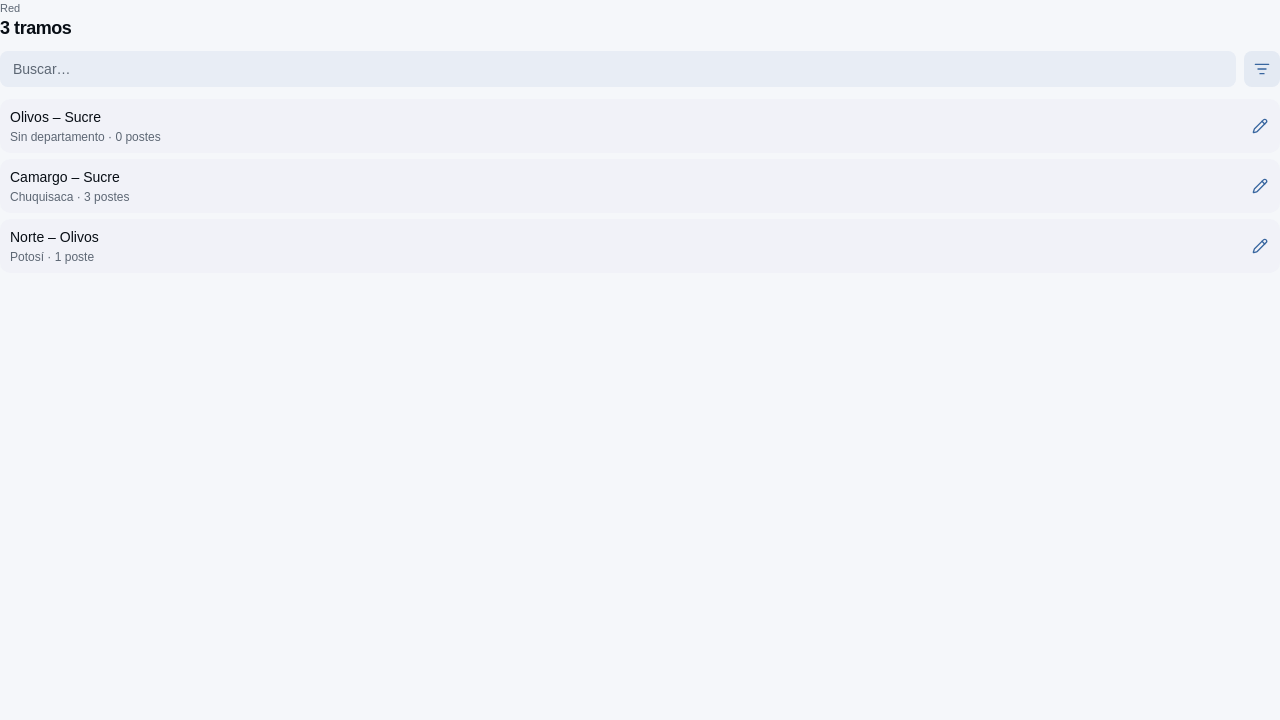
Test: the list › narrows the tramos to one department, or to those with none, from the filter button
This screenshot has width=1280, height=720.
What coordinates should you click on to do the following:
click the button named "Filtros"
I would click on:
 (1262, 69)
Its box is [1244,51,1279,87].
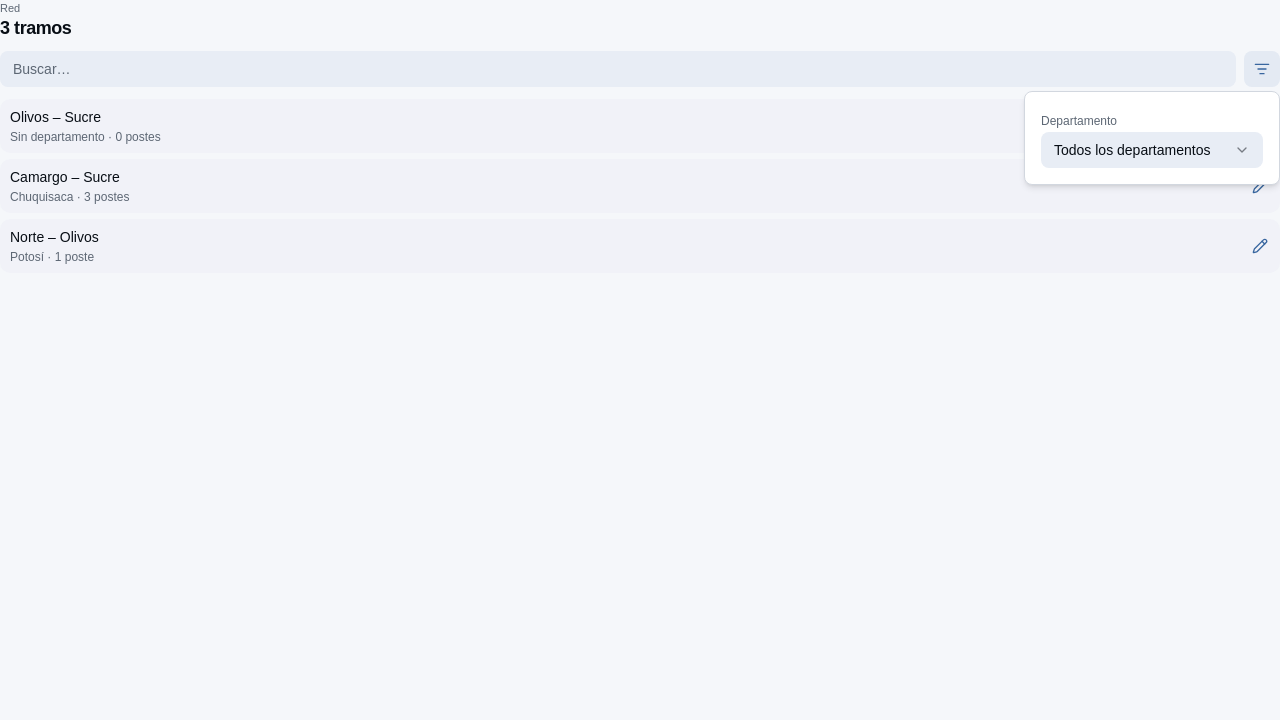
What coordinates should you click on to do the following:
click the dropdown named "Filtrar por departamento"
I would click on:
 (1152, 150)
Its box is [1041,132,1263,168].
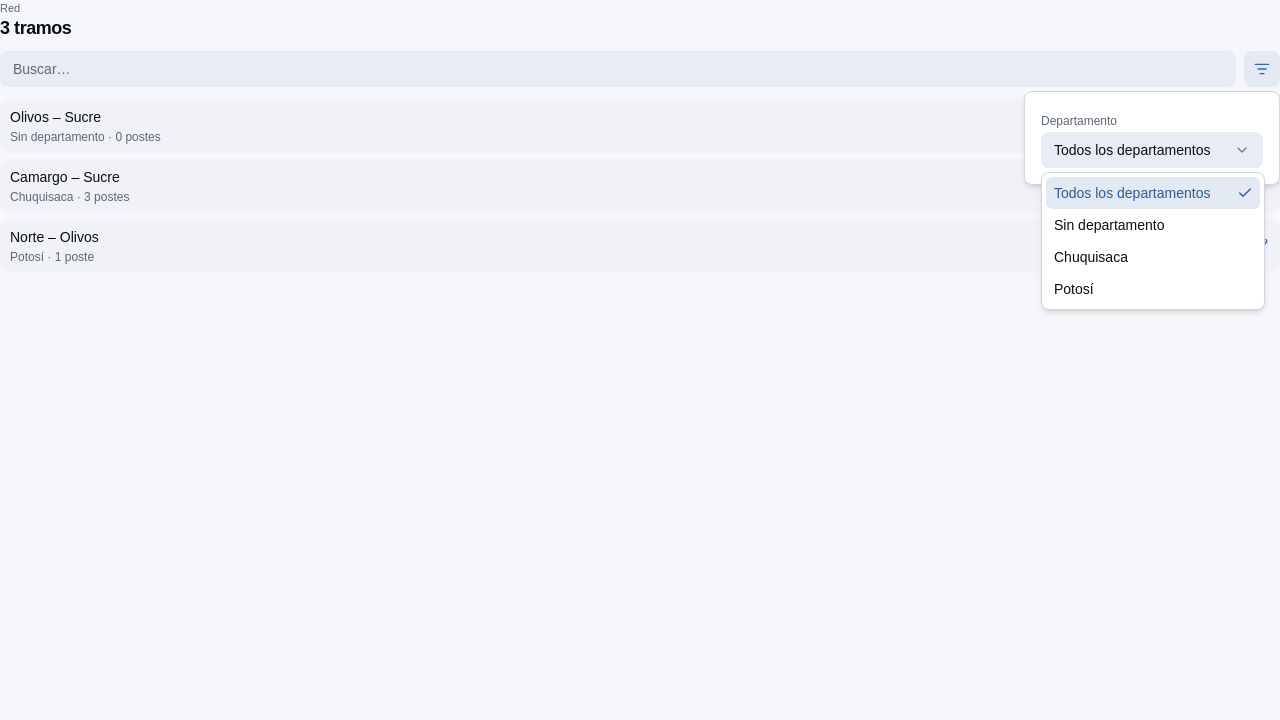
What coordinates should you click on to do the following:
click the option "Chuquisaca"
I would click on:
 (1091, 257)
Its box is [1054,249,1128,265].
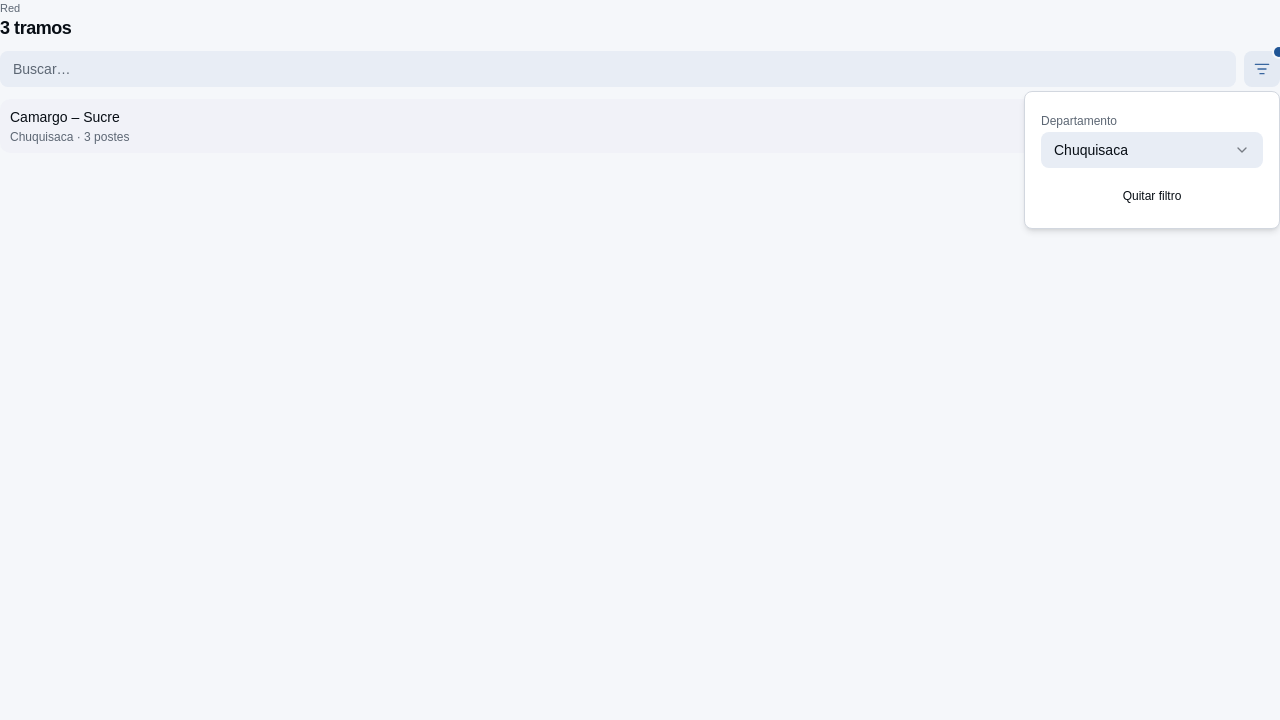
Expected: the button "Camargo – Sucre Chuquisaca · 3 postes" is shown, [0,99,1240,153]
Result: the button "Olivos – Sucre" is gone
Result: the button "Norte – Olivos" is gone
What coordinates should you click on to do the following:
click the dropdown named "Filtrar por departamento"
I would click on:
 (1152, 150)
Its box is [1041,132,1263,168].
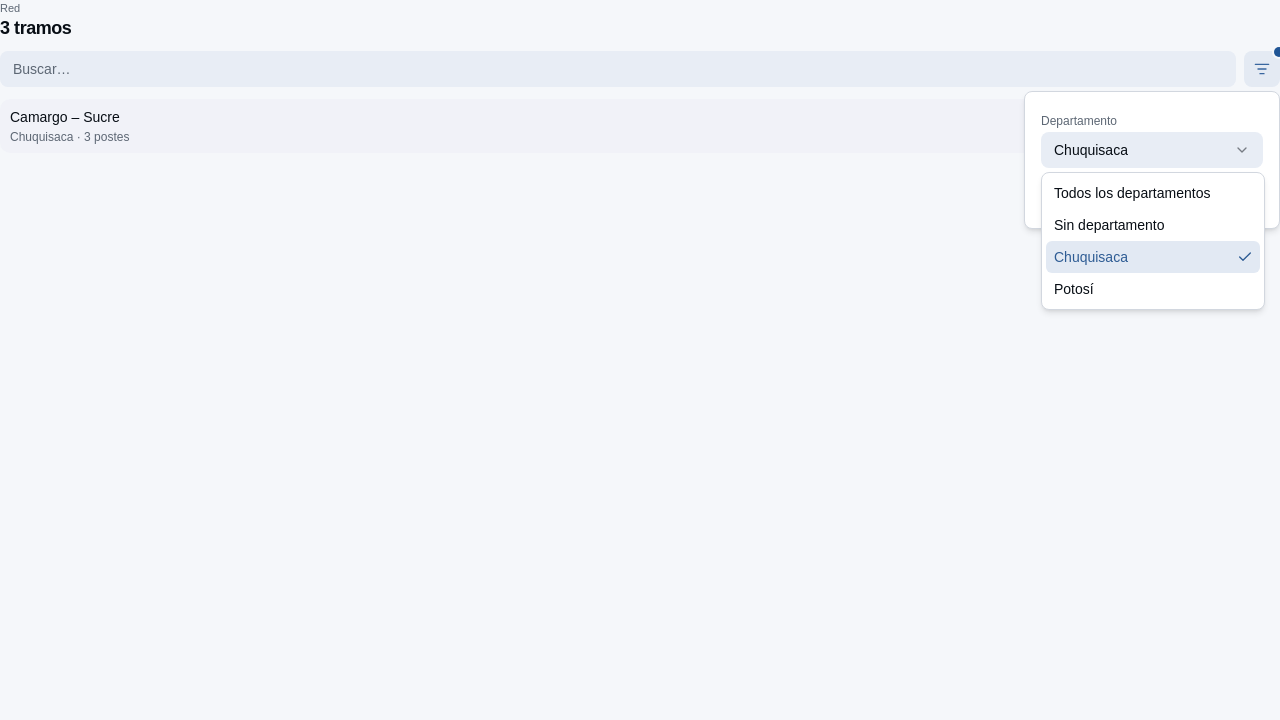
What coordinates should you click on to do the following:
click the option "Sin departamento"
I would click on:
 (1109, 225)
Its box is [1054,217,1164,233].
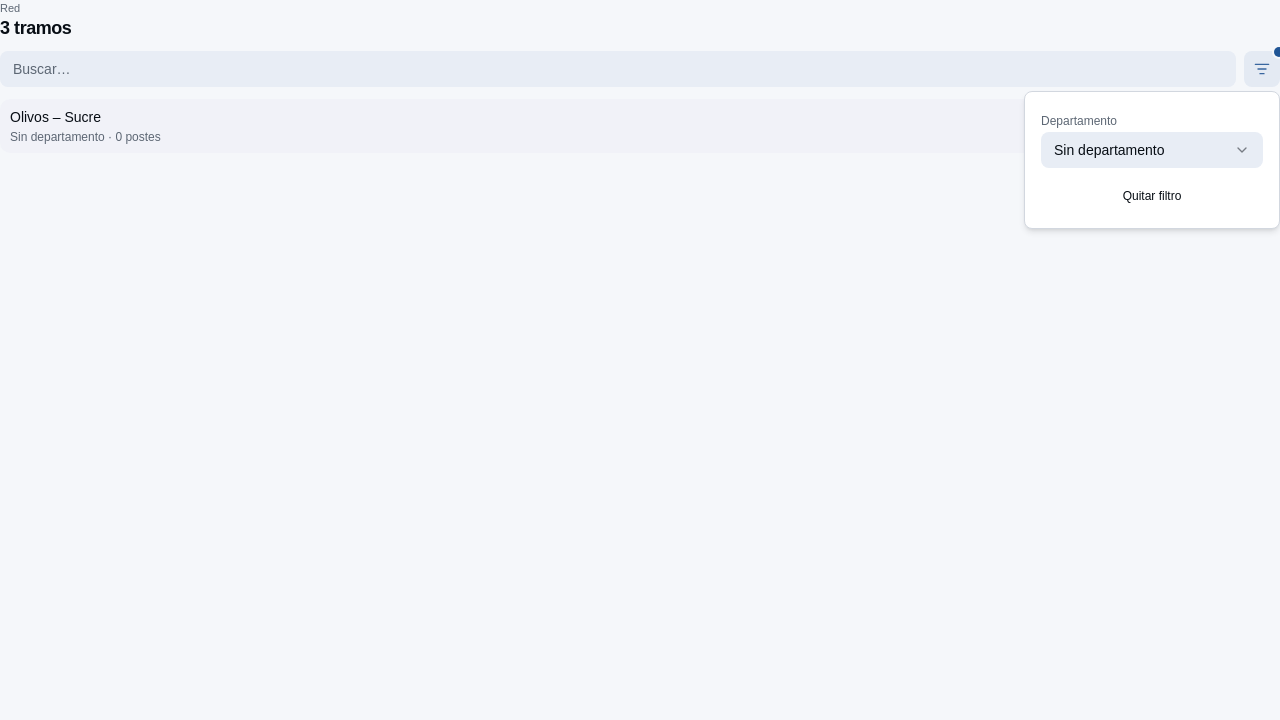
Result: the button "Olivos – Sucre Sin departamento · 0 postes" is shown at [0,99,1240,153]
Result: the button "Camargo – Sucre" is gone
